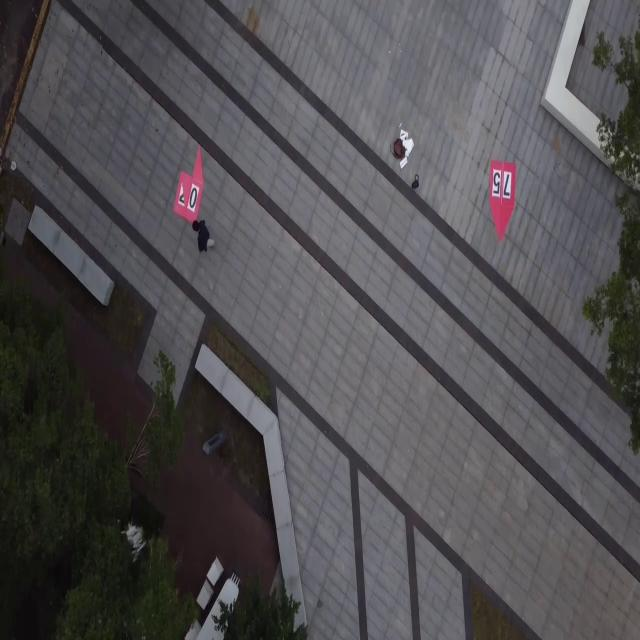-sign-: (172, 143, 204, 224), (488, 158, 516, 242)
